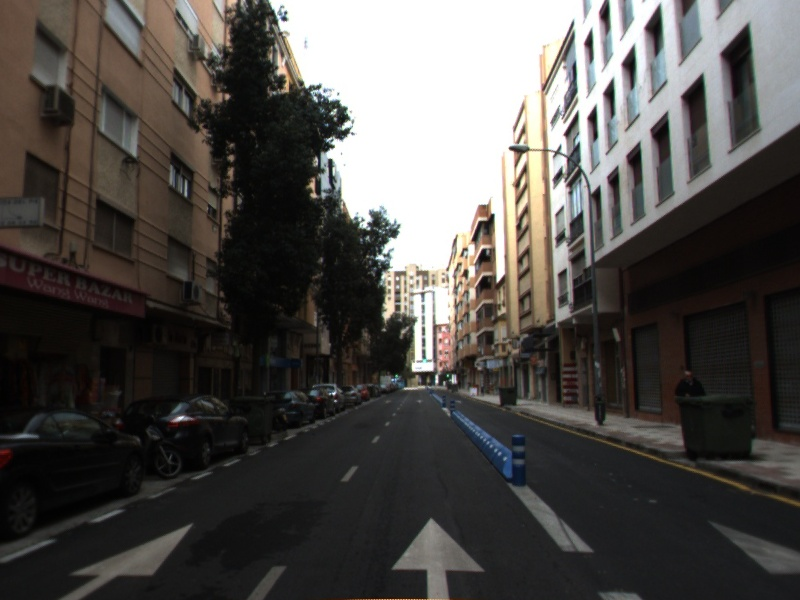STRAIGHT: (55, 520, 196, 600), (389, 516, 488, 600)
